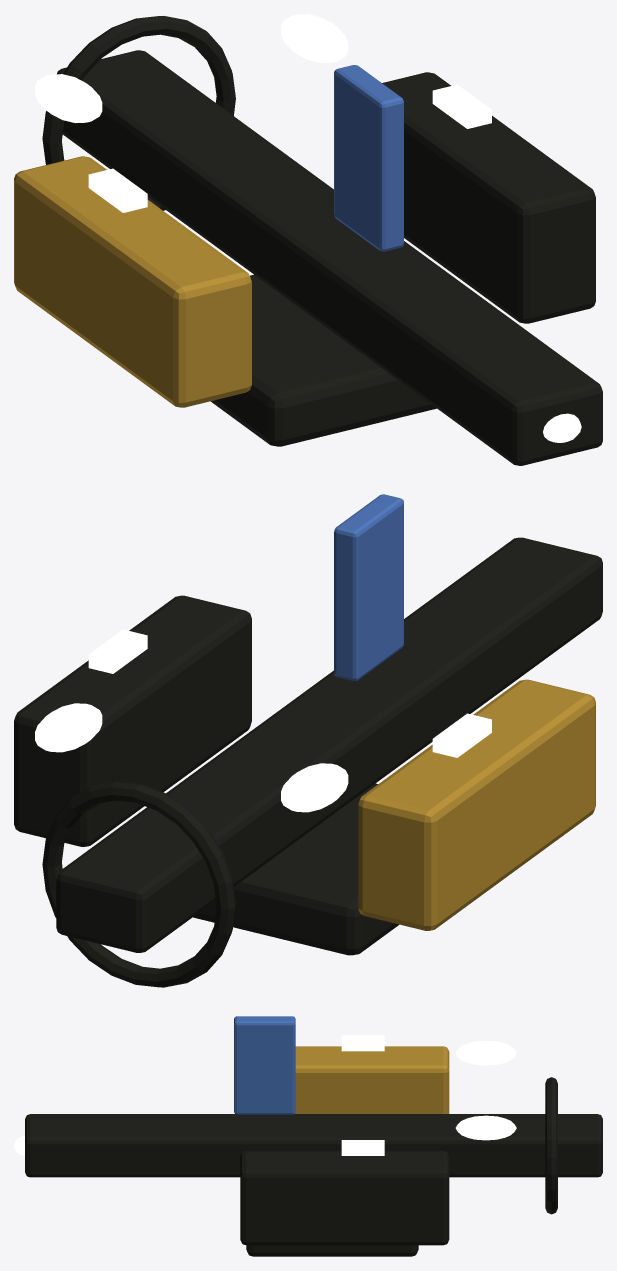
3 renders of one model, top to bottom at view 1: azimuth 30°, elevation 25°; view 2: azimuth 150°, elevation 25°; view 3: azimuth 270°, elevation 25°, orthographic. The views are drawn at different scales.
Parts seen in each view (by area): view 1: RIMWARD_HULL, RIMWARD_EMISSIVE, RIMWARD_ENGINE_GLOW; view 2: RIMWARD_HULL, RIMWARD_EMISSIVE; view 3: RIMWARD_HULL, RIMWARD_EMISSIVE.
Boxes of the visible parts, x1,y1,x2,y2 form: RIMWARD_HULL: [14, 16, 602, 465]; RIMWARD_EMISSIVE: [35, 14, 491, 212]; RIMWARD_ENGINE_GLOW: [543, 413, 581, 442]; RIMWARD_HULL: [14, 494, 602, 987]; RIMWARD_EMISSIVE: [35, 629, 491, 812]; RIMWARD_HULL: [25, 1016, 602, 1256]; RIMWARD_EMISSIVE: [341, 1035, 516, 1155].
Size of the model in its own units: 5.44 by 4.09 by 10.54.
